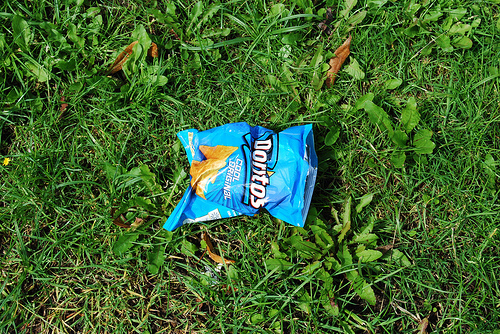litter: (162, 122, 318, 230)
